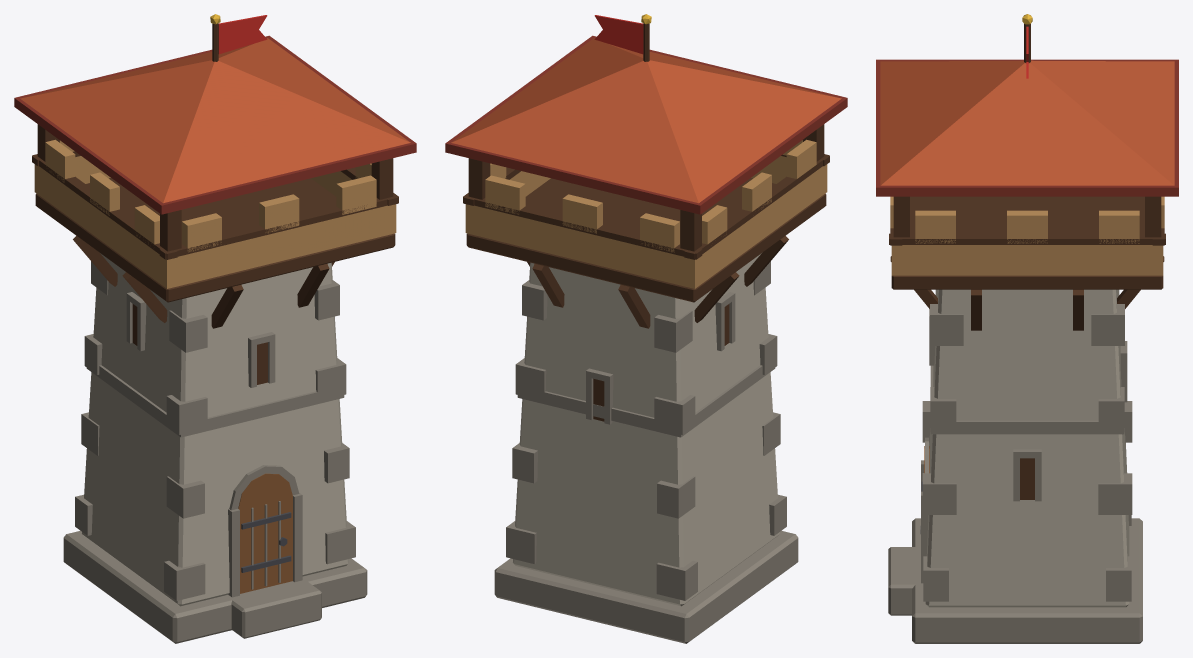
Rendered from Wachturm.fbx.
The picture shows the model from 3 angles, left to right: view 1: azimuth 30°, elevation 25°; view 2: azimuth 150°, elevation 25°; view 3: azimuth 270°, elevation 25°; orthographic projection. The views are drawn at different scales.
Parts seen in each view (by area): view 1: Wachturm; view 2: Wachturm; view 3: Wachturm.
Boxes of the visible parts, <box> form: Wachturm: <box>14,14,416,643</box>; Wachturm: <box>445,14,847,643</box>; Wachturm: <box>876,14,1178,643</box>.
Size of the model in its own units: 4.45 by 9.46 by 4.45.
